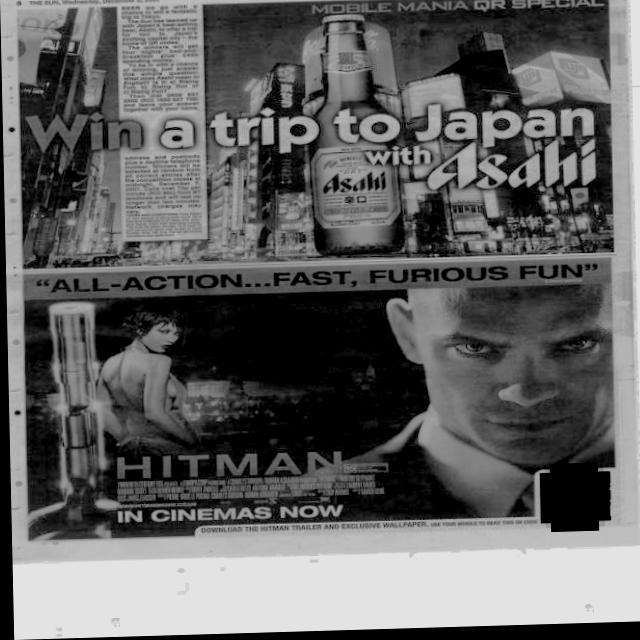qr_code: (542, 470, 602, 532)
